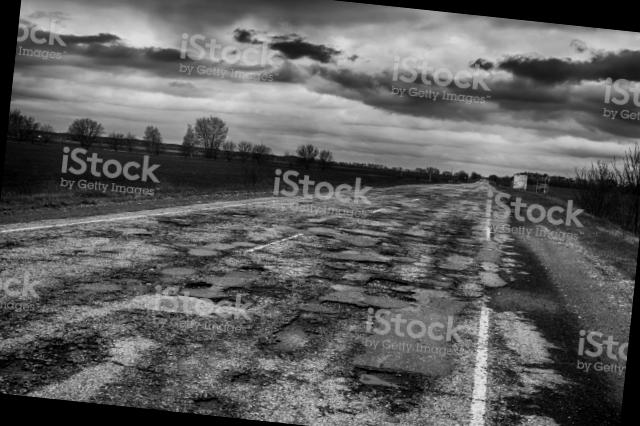Pothole: (294, 260, 466, 338), (0, 318, 113, 404), (258, 309, 349, 371), (340, 358, 420, 409), (179, 274, 260, 324), (222, 357, 279, 394), (192, 379, 242, 418)
